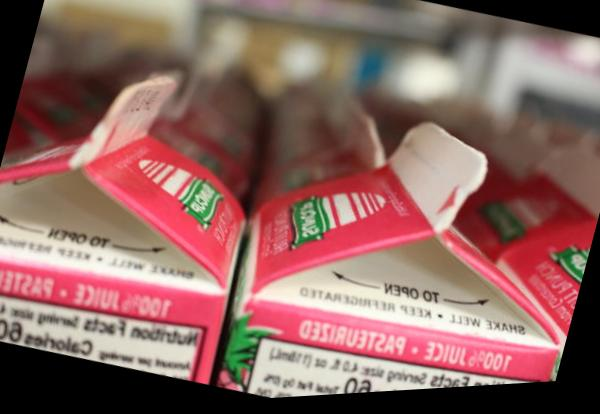cardboard: (217, 123, 595, 396), (0, 74, 244, 381)
